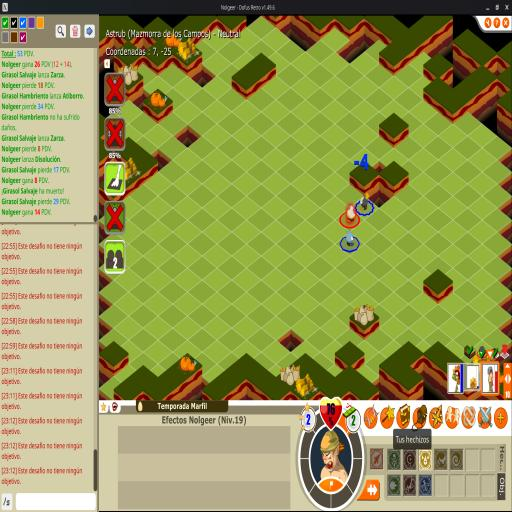Enemigos: (359, 189, 372, 210), (345, 229, 355, 247)
Personaje: (346, 203, 356, 224)
